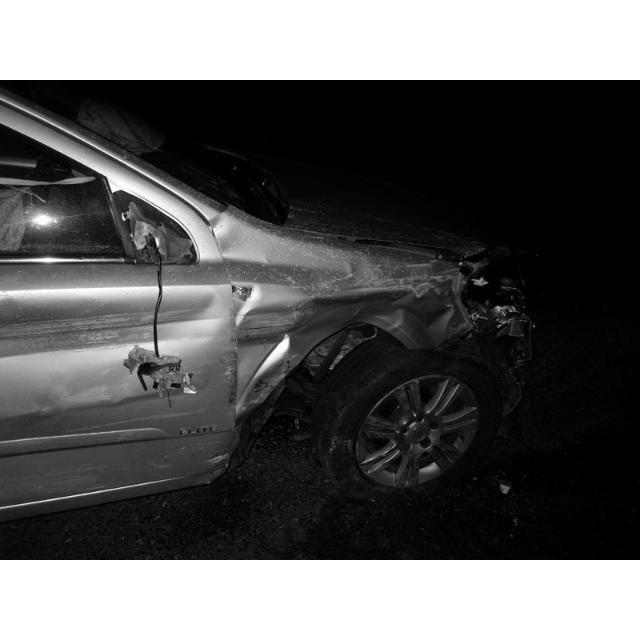doorouter-dent: (1, 258, 246, 496)
fender-dent: (214, 215, 473, 374)
